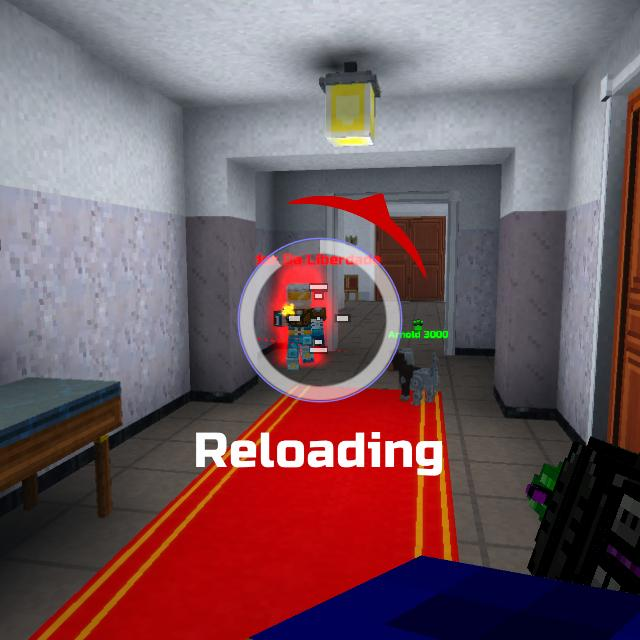Enemy: (274, 283, 327, 367)
